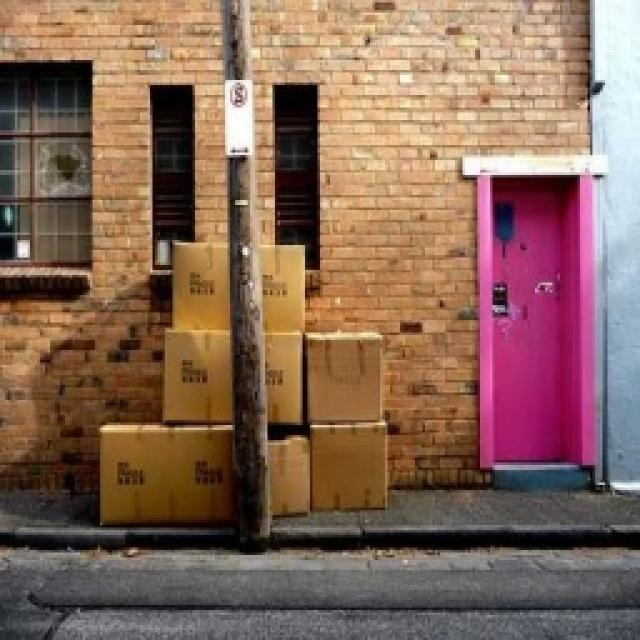box: (105, 421, 239, 524), (312, 328, 387, 422), (158, 333, 238, 421), (314, 422, 392, 510), (177, 242, 237, 336), (249, 246, 310, 334), (264, 330, 311, 432), (264, 438, 314, 518)
